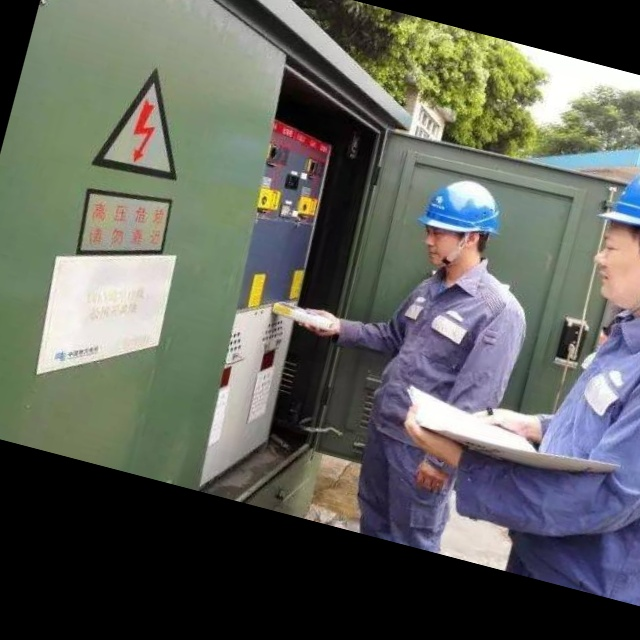Con_Casco: (413, 177, 512, 282)
